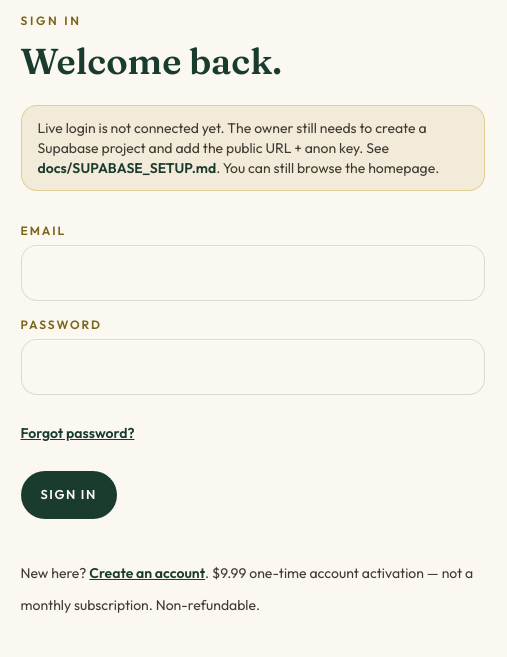
Test: sign in › shows a too many attempts error
This screenshot has width=507, height=657.
Type "pat@example.com" into the field labelled "Email" at coordinates (252, 273), box [20,245,484,301]
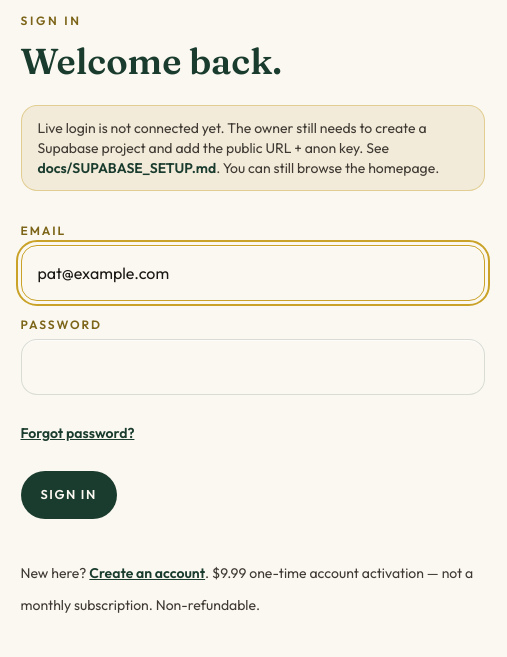
Type "password12" into the password field labelled "Password" at coordinates (252, 367), box [20,339,484,395]
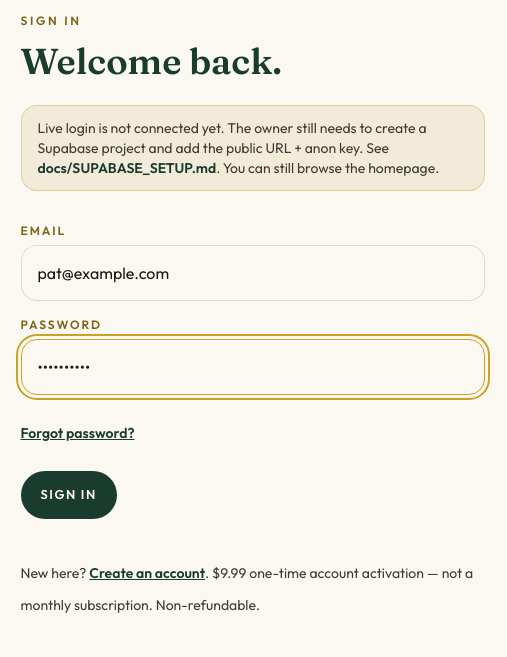
Click the button "Sign in" at coordinates (69, 495), box [20,471,117,519]
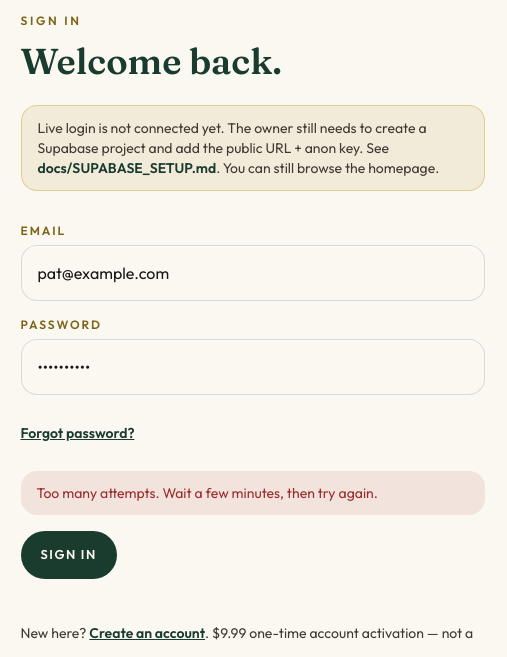
Check: the message "Too many attempts. Wait a few minutes, then try again." is shown, box [20,471,484,515]
